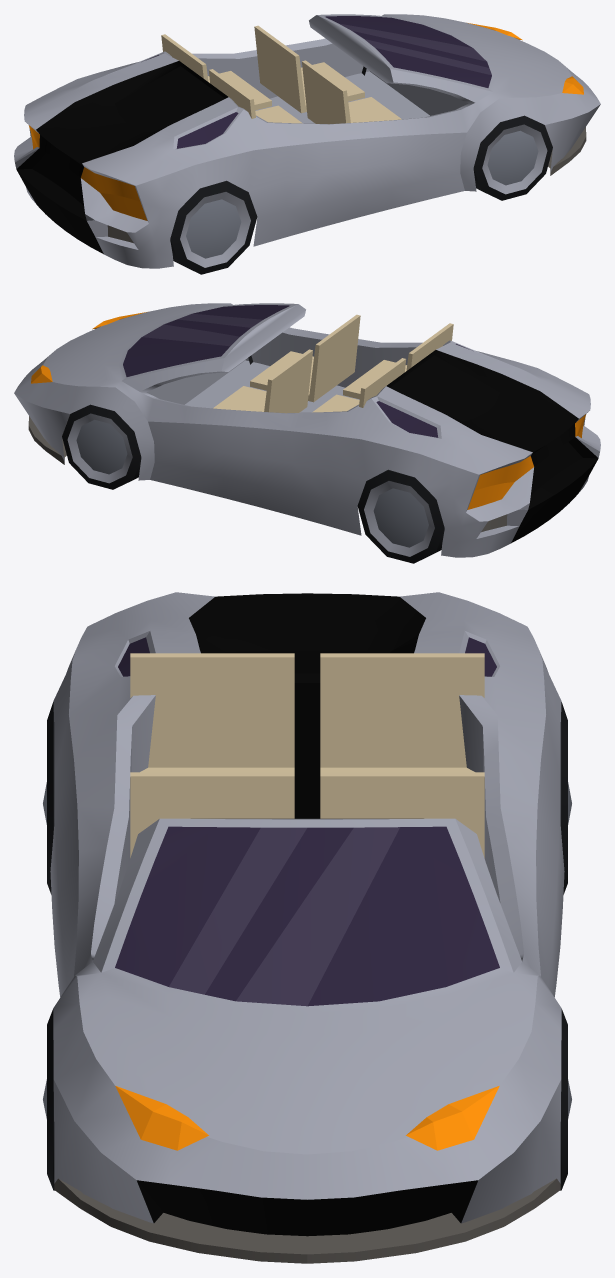
File: Lambo_open.fbx
The picture shows the model from 3 angles, top to bottom: view 1: azimuth 30°, elevation 25°; view 2: azimuth 150°, elevation 25°; view 3: azimuth 270°, elevation 25°; orthographic projection. The views are drawn at different scales.
Parts seen in each view (by area): view 1: Lambo_open; view 2: Lambo_open; view 3: Lambo_open.
Boxes of the visible parts, x1,y1,x2,y2 form: Lambo_open: [14, 14, 600, 274]; Lambo_open: [14, 303, 600, 563]; Lambo_open: [43, 592, 571, 1263].
Bounding box in the file's own units: 21.64 × 5.77 × 9.4.
